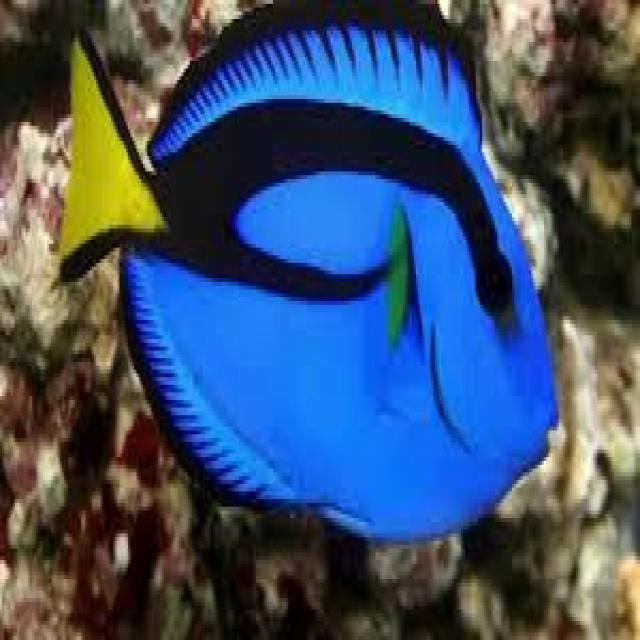TangFish: (58, 2, 560, 544)
